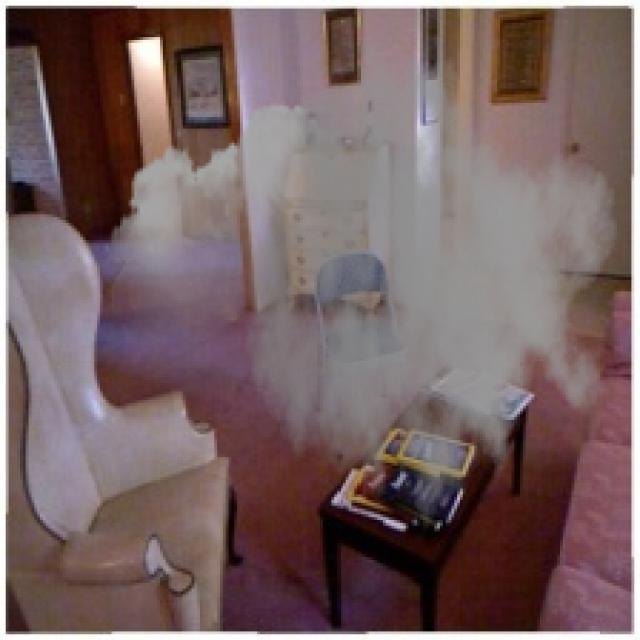smoke: (103, 37, 620, 554)
